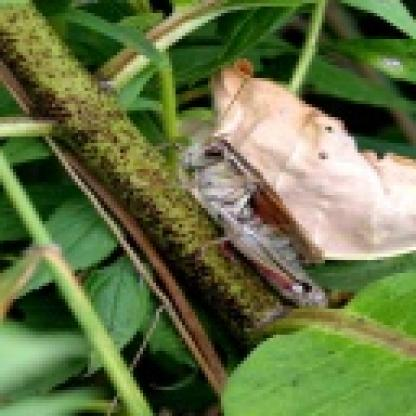grasshopper: (167, 121, 346, 328)
